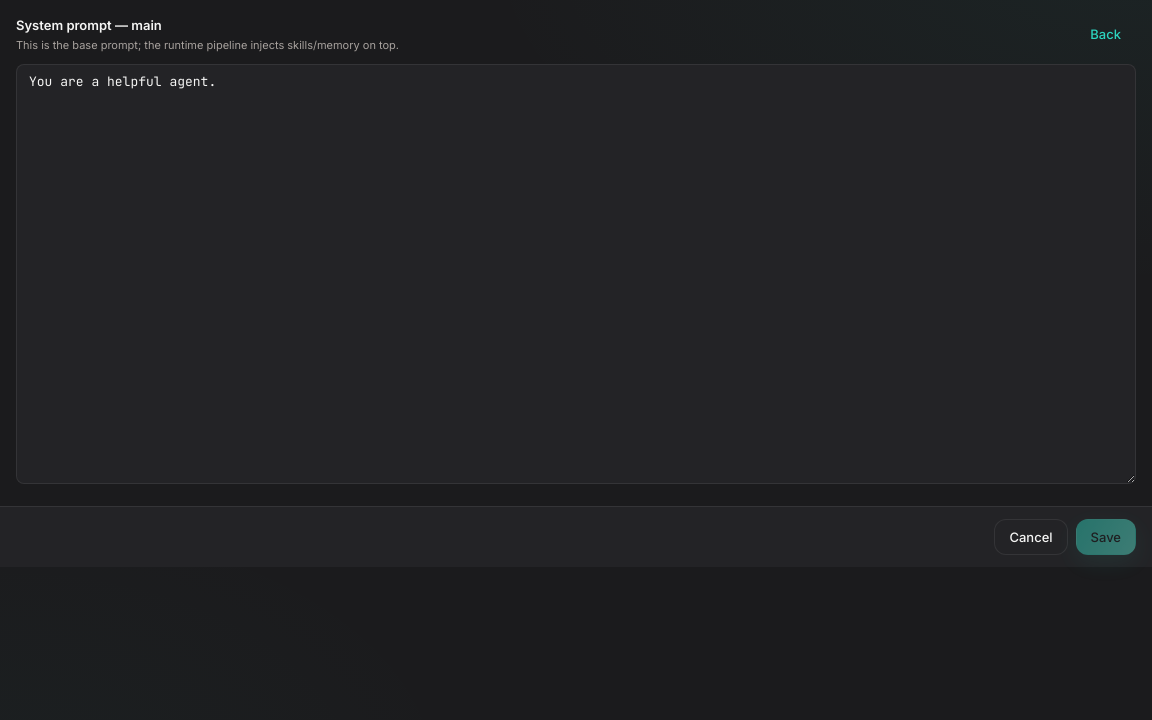
Scenario: PromptEditor › Save disabled until dirty; editing enables it
Expected: the button "Save" is disabled, [1076,519,1136,555]
Replace the text in the text box with "You are great." at (576, 274), box [16,64,1136,484]
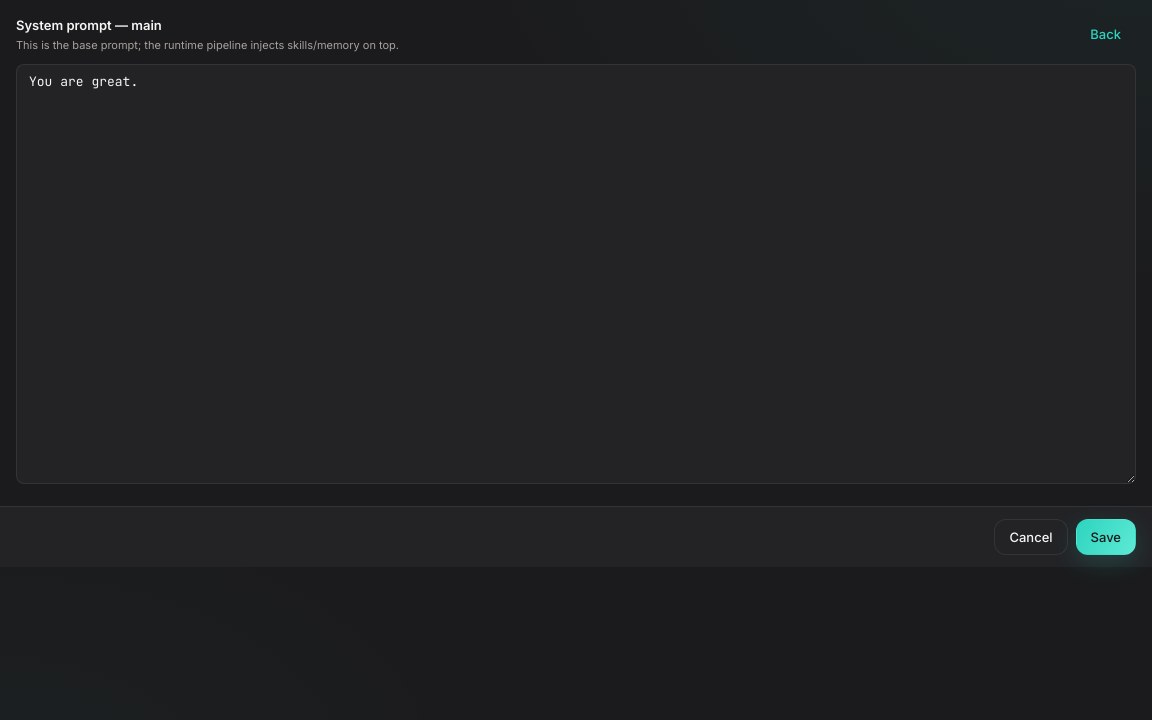
Now the button "Save" is enabled, box [1076,519,1136,555]
